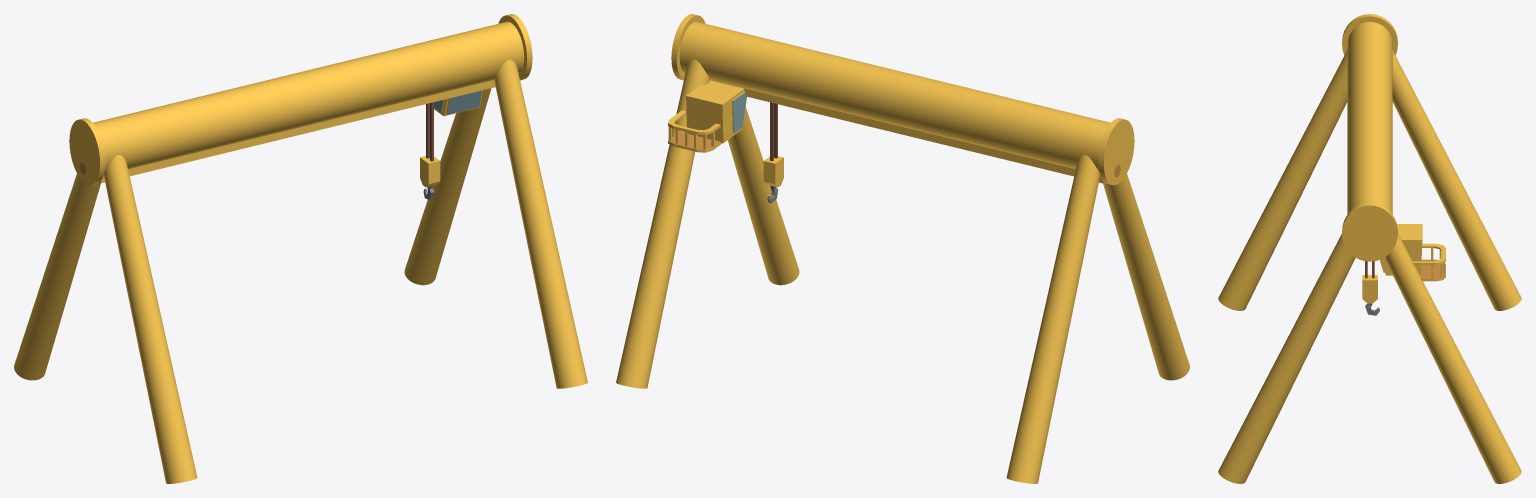
The model's file is Factory (tower 1).fbx.
The picture shows the model from 3 angles, left to right: view 1: azimuth 30°, elevation 25°; view 2: azimuth 150°, elevation 25°; view 3: azimuth 270°, elevation 25°; orthographic projection. The views are drawn at different scales.
Visible parts, largest first — view 1: Factory (tower 1); view 2: Factory (tower 1); view 3: Factory (tower 1).
Part boxes in pixels (x1,y1,x2,y2): Factory (tower 1): (14, 14, 587, 483); Factory (tower 1): (616, 14, 1189, 483); Factory (tower 1): (1218, 14, 1521, 483).
Bounding box in the file's own units: 7852 × 5442 × 5256.
